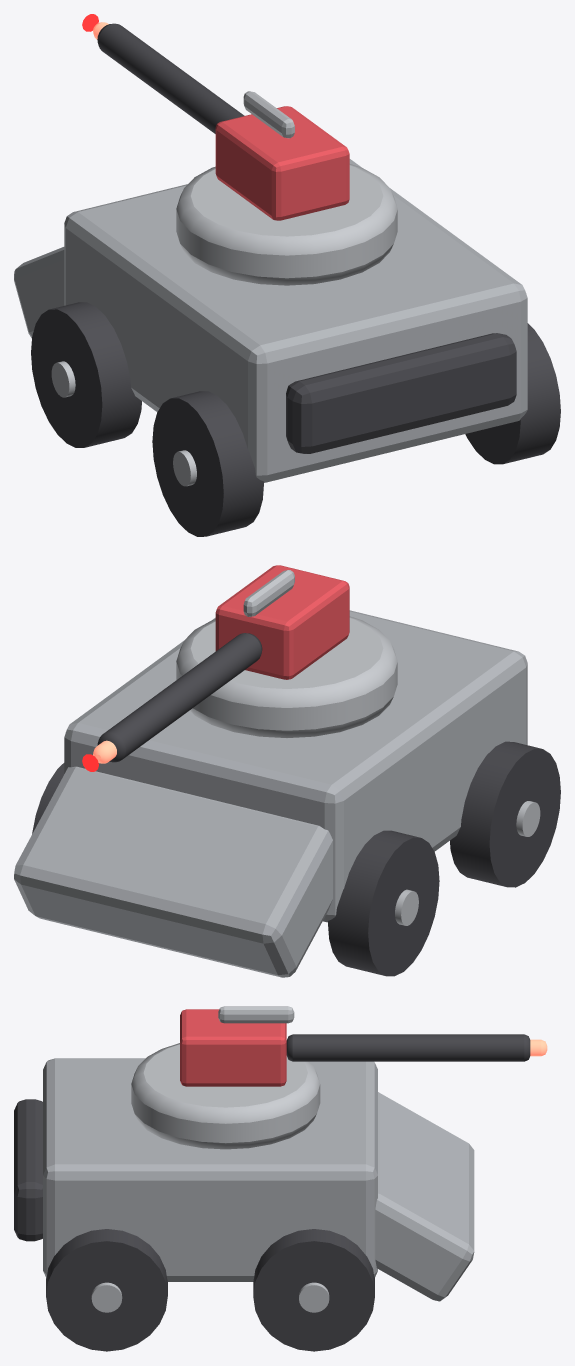
Rendered from robot_medium_laser_standard.glb.
3 views of the same model, one above another, from view 1: azimuth 30°, elevation 25°; view 2: azimuth 150°, elevation 25°; view 3: azimuth 270°, elevation 25° (orthographic). The views are drawn at different scales.
Parts seen in each view (by area): view 1: robot_medium_laser_standard, robot_medium_laser_standard_gun, robot_medium_laser_standard_wheel0, robot_medium_laser_standard_wheel1, robot_medium_laser_standard_wheel2; view 2: robot_medium_laser_standard, robot_medium_laser_standard_gun, robot_medium_laser_standard_wheel1, robot_medium_laser_standard_wheel0, robot_medium_laser_standard_wheel3; view 3: robot_medium_laser_standard, robot_medium_laser_standard_gun, robot_medium_laser_standard_wheel2, robot_medium_laser_standard_wheel3.
Part boxes in pixels (x1=…): robot_medium_laser_standard: x1=14, y1=159, x2=527, y2=482; robot_medium_laser_standard_gun: x1=93, y1=22, x2=349, y2=220; robot_medium_laser_standard_wheel0: x1=152, y1=391, x2=263, y2=536; robot_medium_laser_standard_wheel1: x1=31, y1=302, x2=141, y2=447; robot_medium_laser_standard_wheel2: x1=465, y1=323, x2=560, y2=464; robot_medium_laser_standard: x1=14, y1=610, x2=527, y2=977; robot_medium_laser_standard_gun: x1=93, y1=565, x2=349, y2=763; robot_medium_laser_standard_wheel1: x1=328, y1=830, x2=439, y2=976; robot_medium_laser_standard_wheel0: x1=450, y1=741, x2=560, y2=887; robot_medium_laser_standard_wheel3: x1=32, y1=763, x2=64, y2=833; robot_medium_laser_standard: x1=14, y1=1043, x2=474, y2=1301; robot_medium_laser_standard_gun: x1=180, y1=1006, x2=547, y2=1086; robot_medium_laser_standard_wheel2: x1=46, y1=1229, x2=167, y2=1351; robot_medium_laser_standard_wheel3: x1=253, y1=1229, x2=374, y2=1351.
Size of what is drawn, in the model's own units: 3.62 by 3.18 by 5.74.
